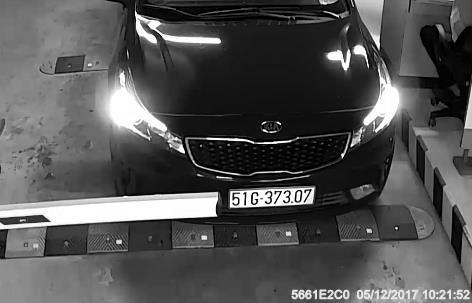License-plate: (223, 172, 328, 217)
